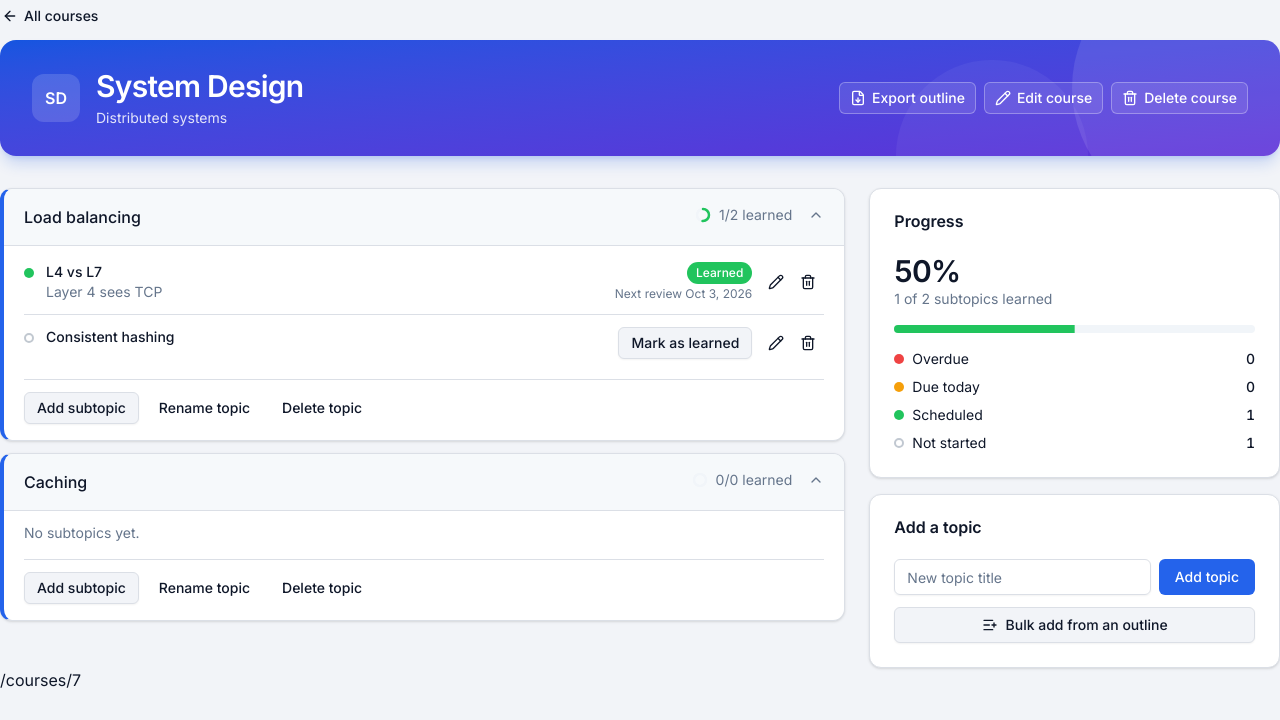
it: editing the course › saves the change, refreshes the page and the course list, and closes
Click the button "Edit course" at coordinates (1044, 98), box [984, 82, 1103, 114]
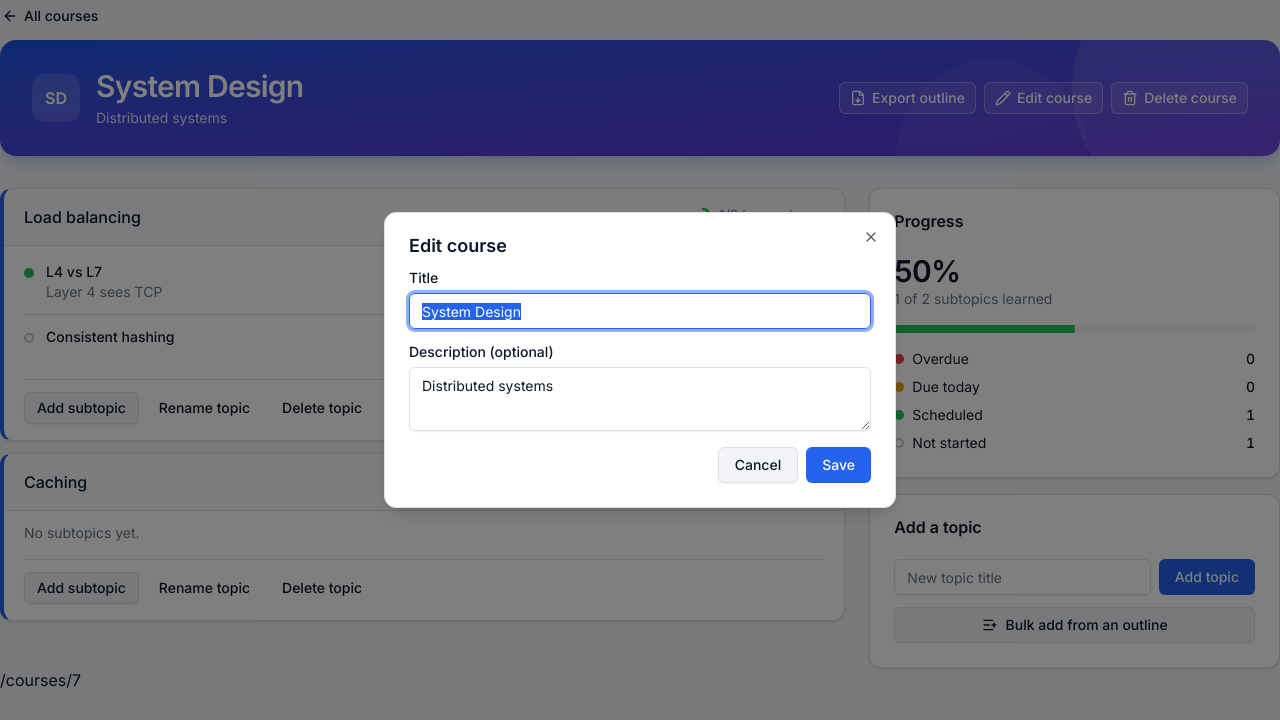
Replace the text in the field labelled "Title" with "  Systems  " at coordinates (640, 311), box [409, 293, 871, 329]
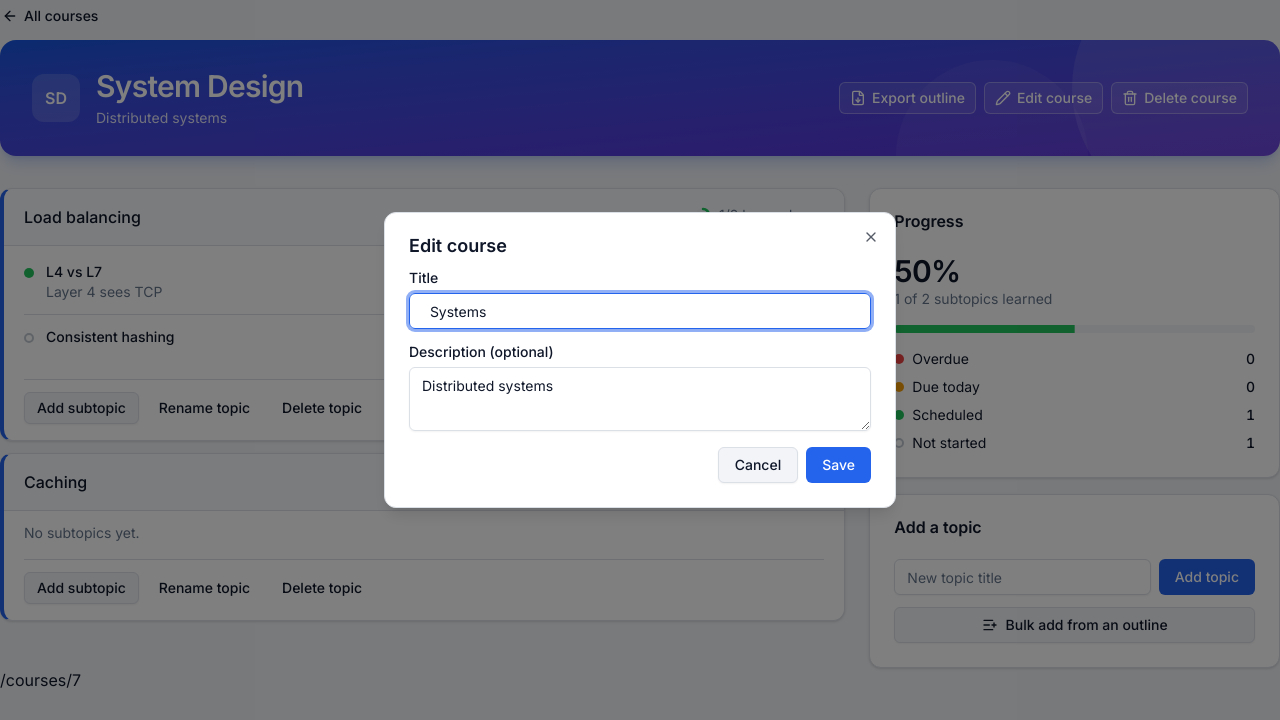
Clear the text box labelled "Description (optional)" at coordinates (640, 399), box [409, 367, 871, 431]
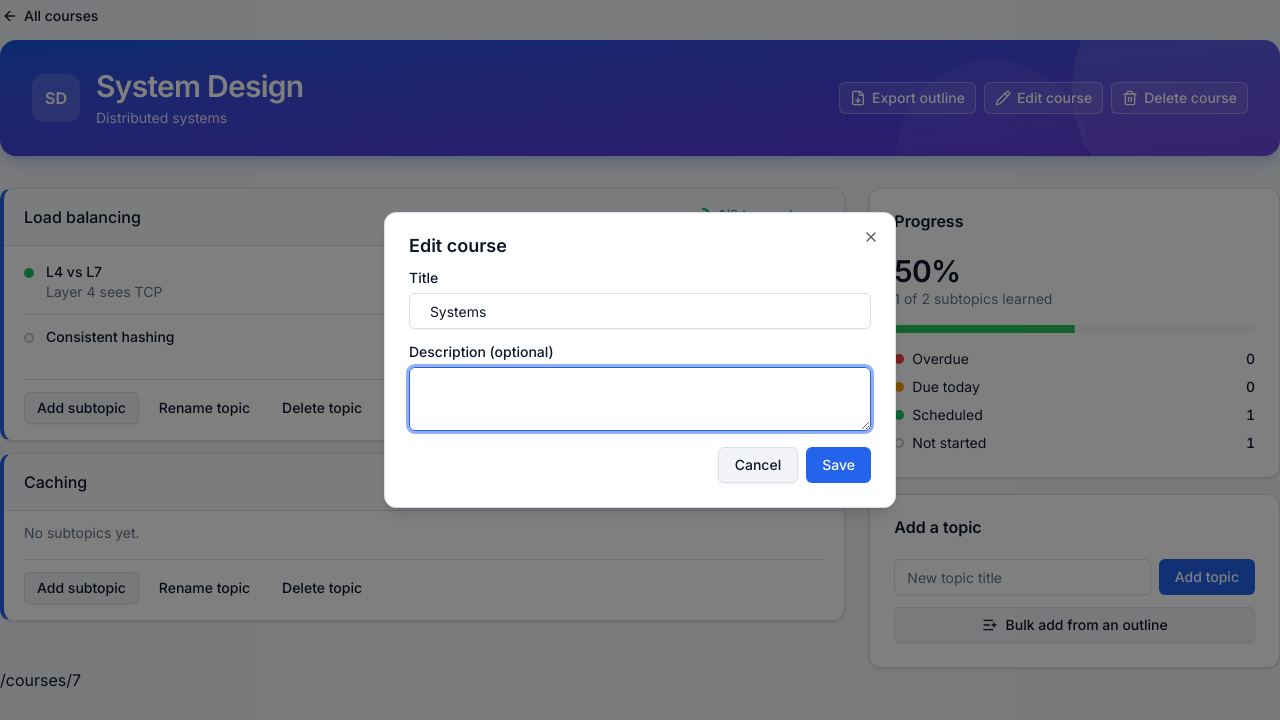
Click the button "Save" at coordinates (839, 465), box [806, 447, 871, 483]
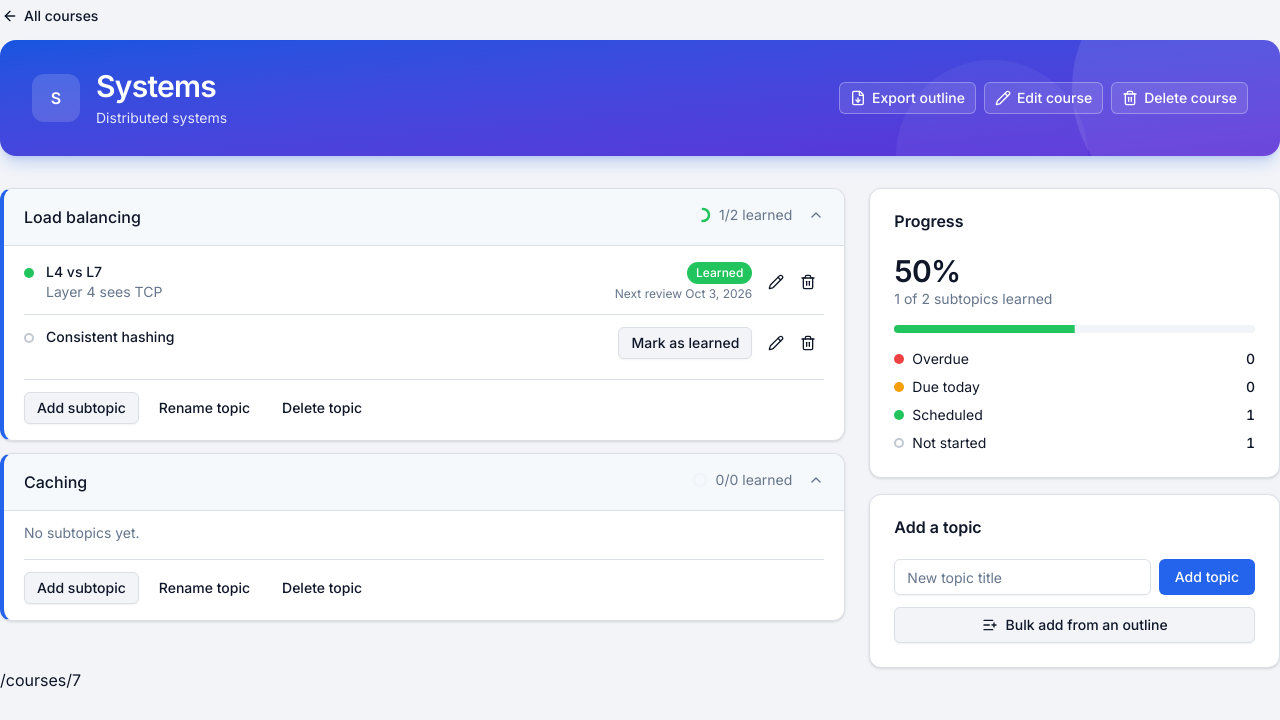
Check: the dialog is gone
Check: the heading "Systems" is shown, box [96, 68, 227, 104]
